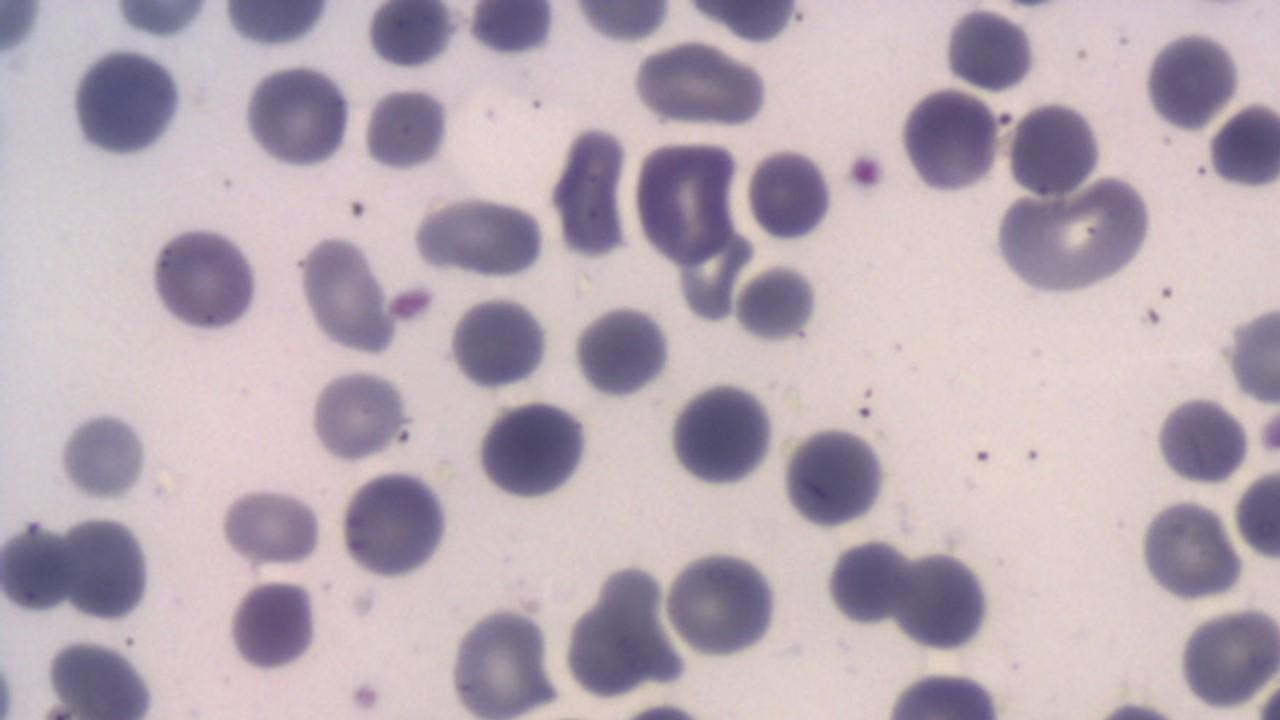Platelets: (64, 45, 191, 164), (663, 378, 776, 492), (1132, 494, 1248, 604), (407, 194, 549, 279), (778, 424, 887, 532), (551, 121, 631, 266), (569, 302, 673, 402), (51, 404, 153, 505), (1146, 391, 1248, 490), (222, 576, 322, 676), (744, 143, 836, 243), (940, 6, 1042, 94), (358, 84, 451, 171), (732, 262, 823, 346), (1204, 99, 1280, 192), (360, 2, 454, 71), (107, 2, 217, 38), (386, 279, 440, 327), (842, 146, 890, 198), (1254, 407, 1280, 459), (996, 0, 1065, 14)
RBC: (994, 178, 1153, 297), (660, 544, 786, 660), (632, 133, 736, 269), (337, 465, 453, 583), (146, 221, 262, 335), (444, 604, 560, 717), (628, 41, 774, 130), (1132, 494, 1248, 604), (895, 84, 1003, 198), (296, 229, 394, 354), (408, 194, 548, 281), (240, 63, 352, 170), (784, 420, 892, 528), (1173, 604, 1279, 712), (1137, 26, 1243, 134), (892, 546, 996, 654), (445, 294, 554, 392), (60, 513, 156, 624), (1003, 96, 1107, 198), (306, 366, 410, 465), (215, 480, 325, 570), (41, 635, 160, 718), (359, 83, 452, 173), (822, 534, 909, 630), (732, 262, 822, 345), (1203, 98, 1279, 194), (3, 518, 75, 618), (878, 668, 1010, 717), (1231, 462, 1279, 564), (570, 0, 673, 44), (110, 0, 214, 40)
WBC: (0, 0, 546, 356), (65, 42, 193, 164), (142, 219, 264, 336), (336, 464, 456, 582), (472, 394, 596, 503), (664, 377, 778, 490), (778, 422, 894, 531), (550, 121, 630, 268), (443, 291, 554, 390), (61, 510, 154, 626), (1152, 391, 1256, 488), (938, 6, 1038, 93), (0, 518, 75, 620), (361, 0, 459, 72), (1222, 297, 1280, 410), (217, 1, 340, 48), (462, 0, 561, 57)
